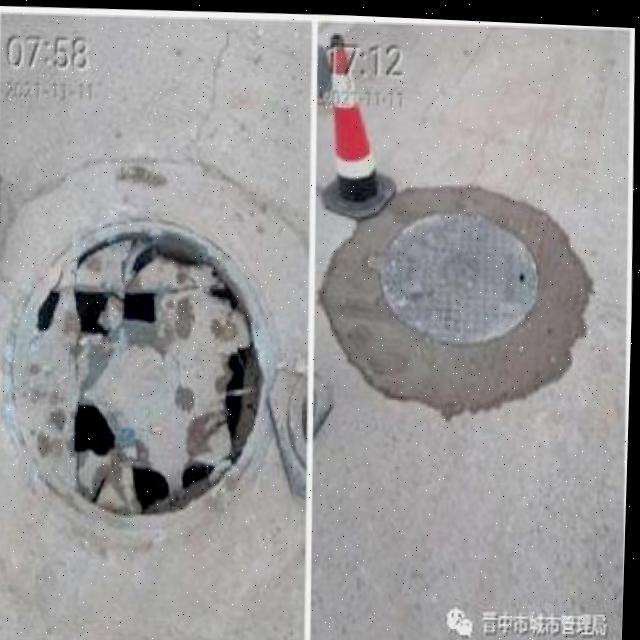manhole: (0, 215, 275, 537)
